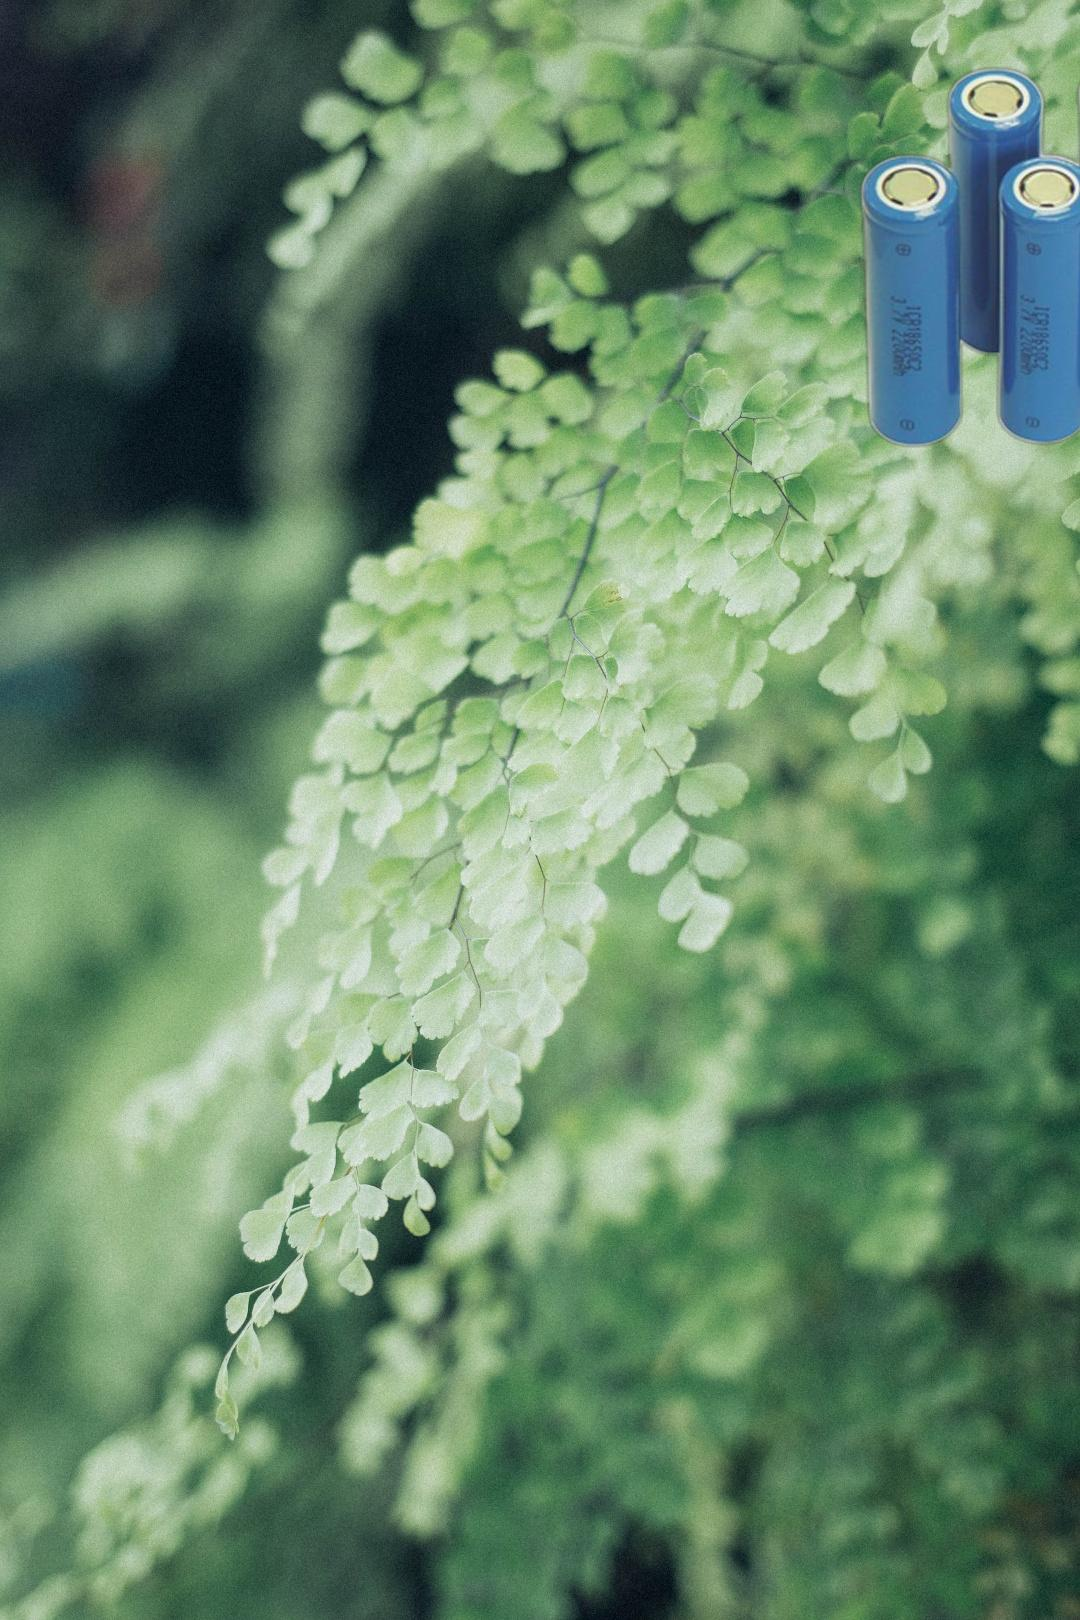battery: (855, 53, 1080, 452)
